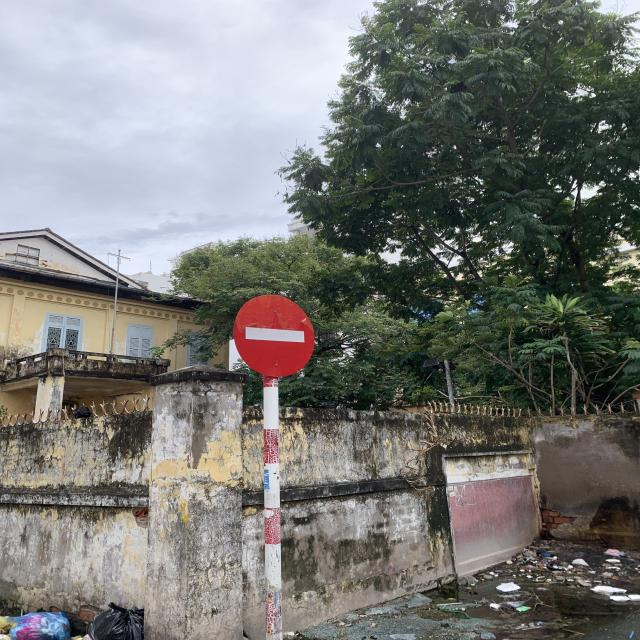Cam_Di_Nguoc_Chieu: (231, 294, 319, 379)
